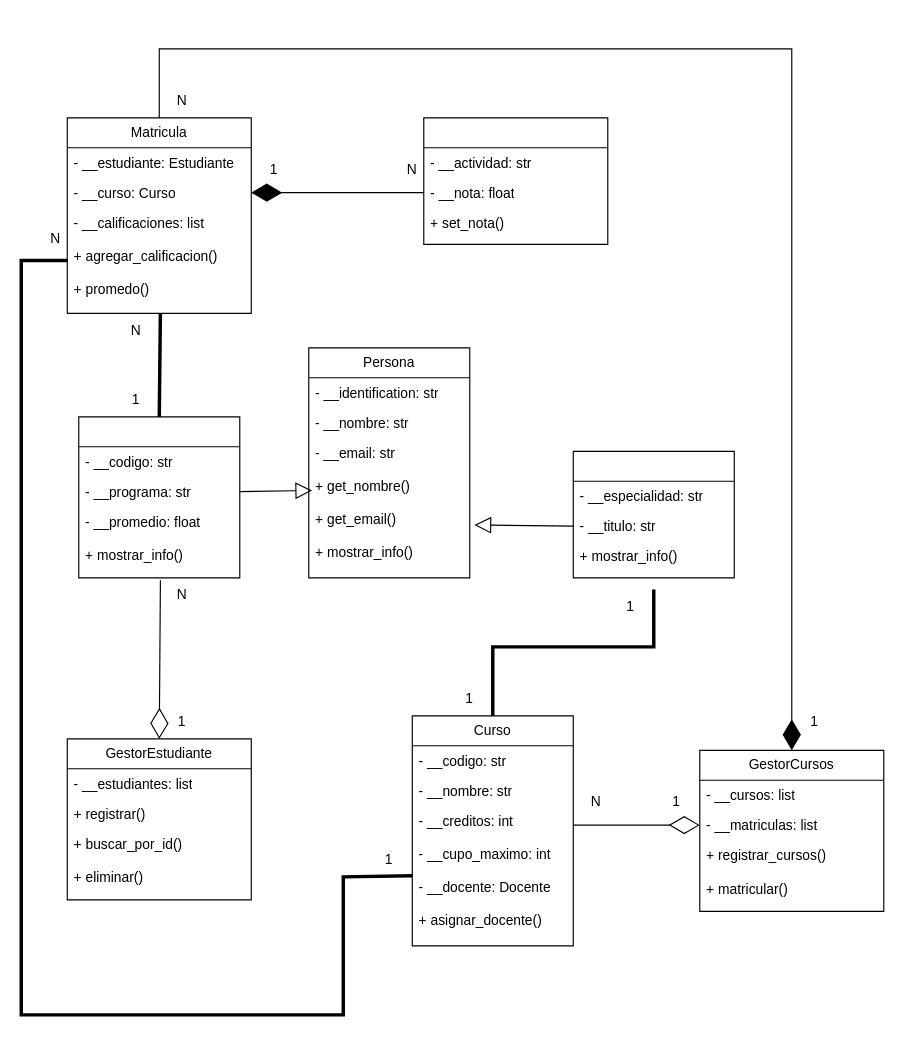
This 904x1037 diagram has some shape labels left out. The box of each missing label's shape, as (x1, y1, x2, y2) in pixels:
Calificacion: (423, 117, 608, 244)
Docente: (572, 450, 734, 578)
Estudiante: (78, 416, 240, 578)
